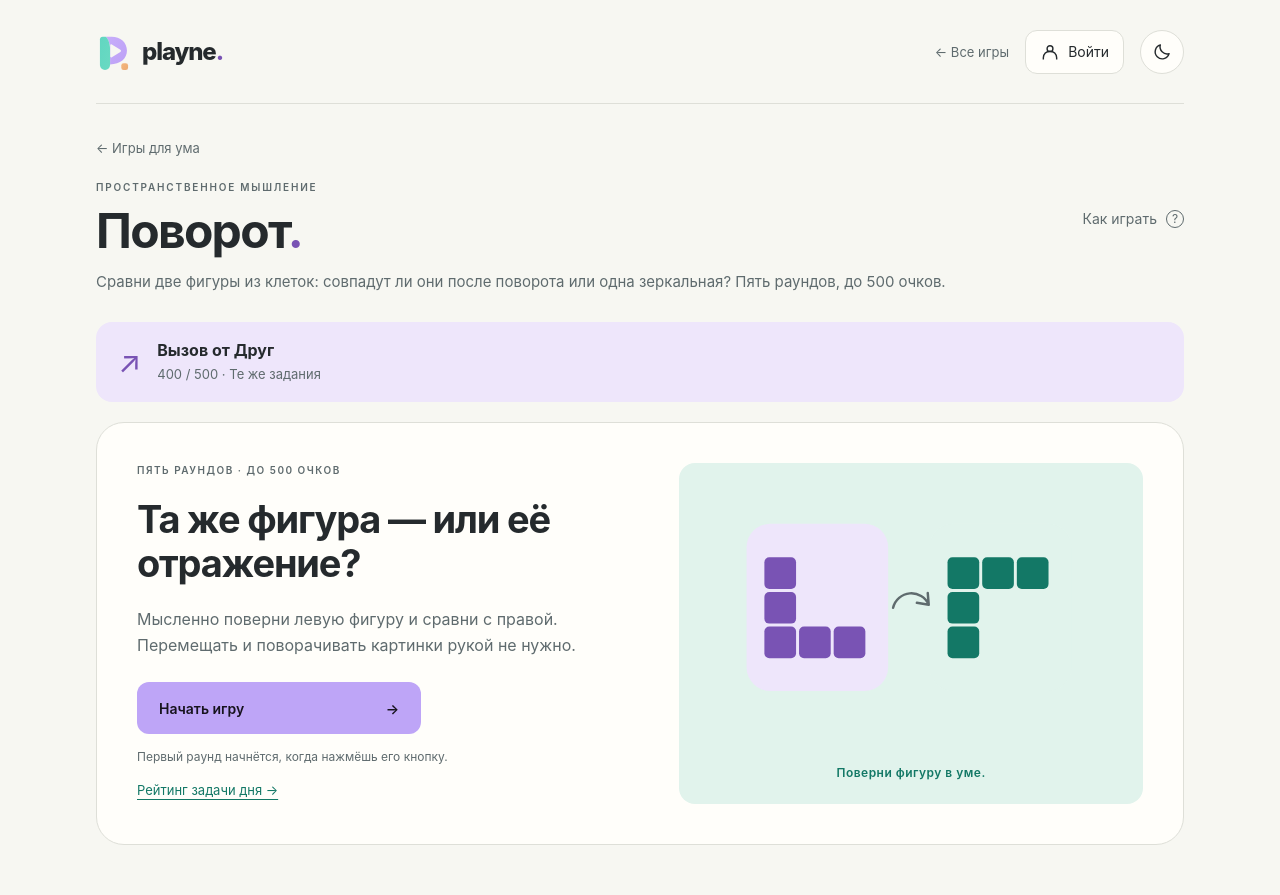
Test: brain game orchestration › keeps the exact completed challenge in the URL and restores it for a consumed guest trial
Click the button "Начать игру →" at (202, 708), box [137, 682, 421, 734]
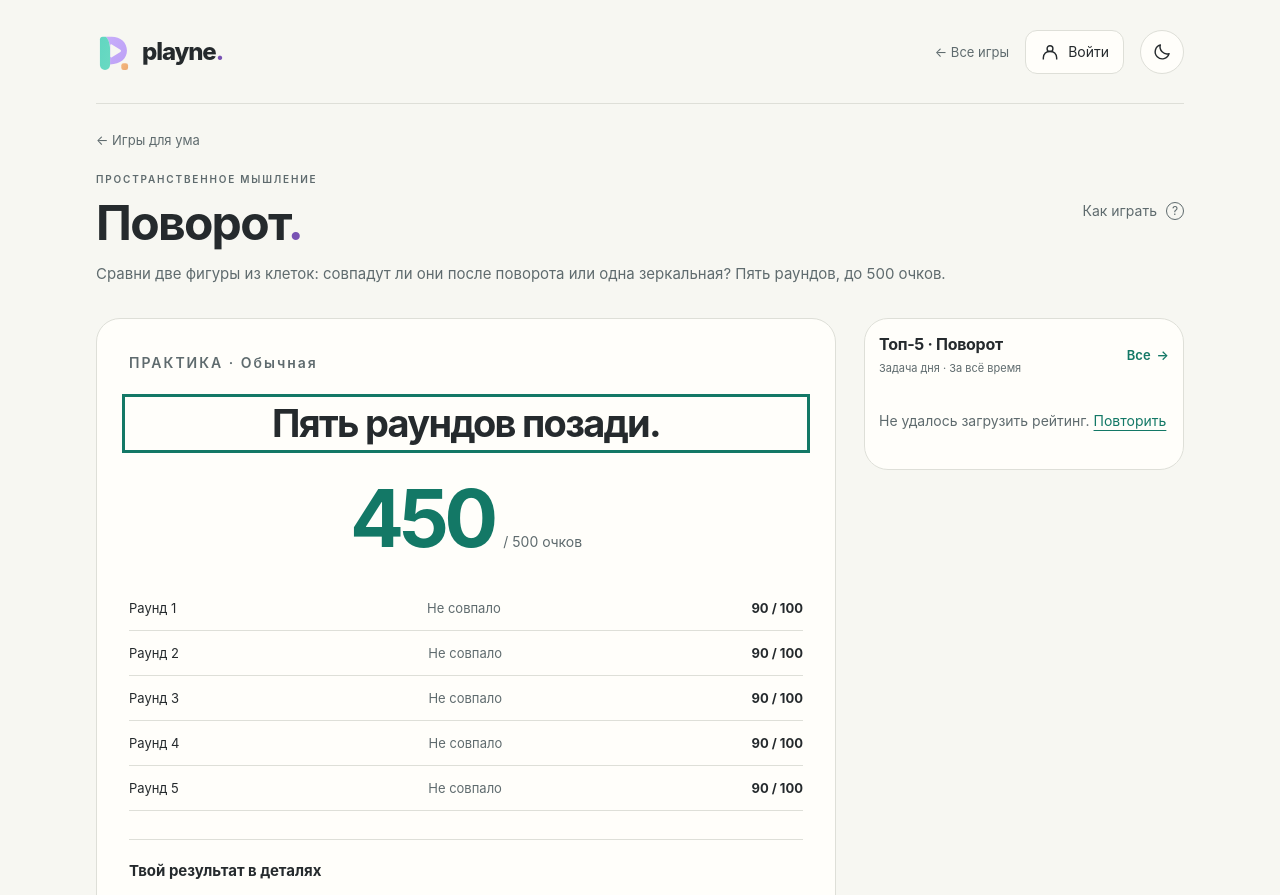
expect the text "450" is shown: met, box [350, 478, 493, 558]
